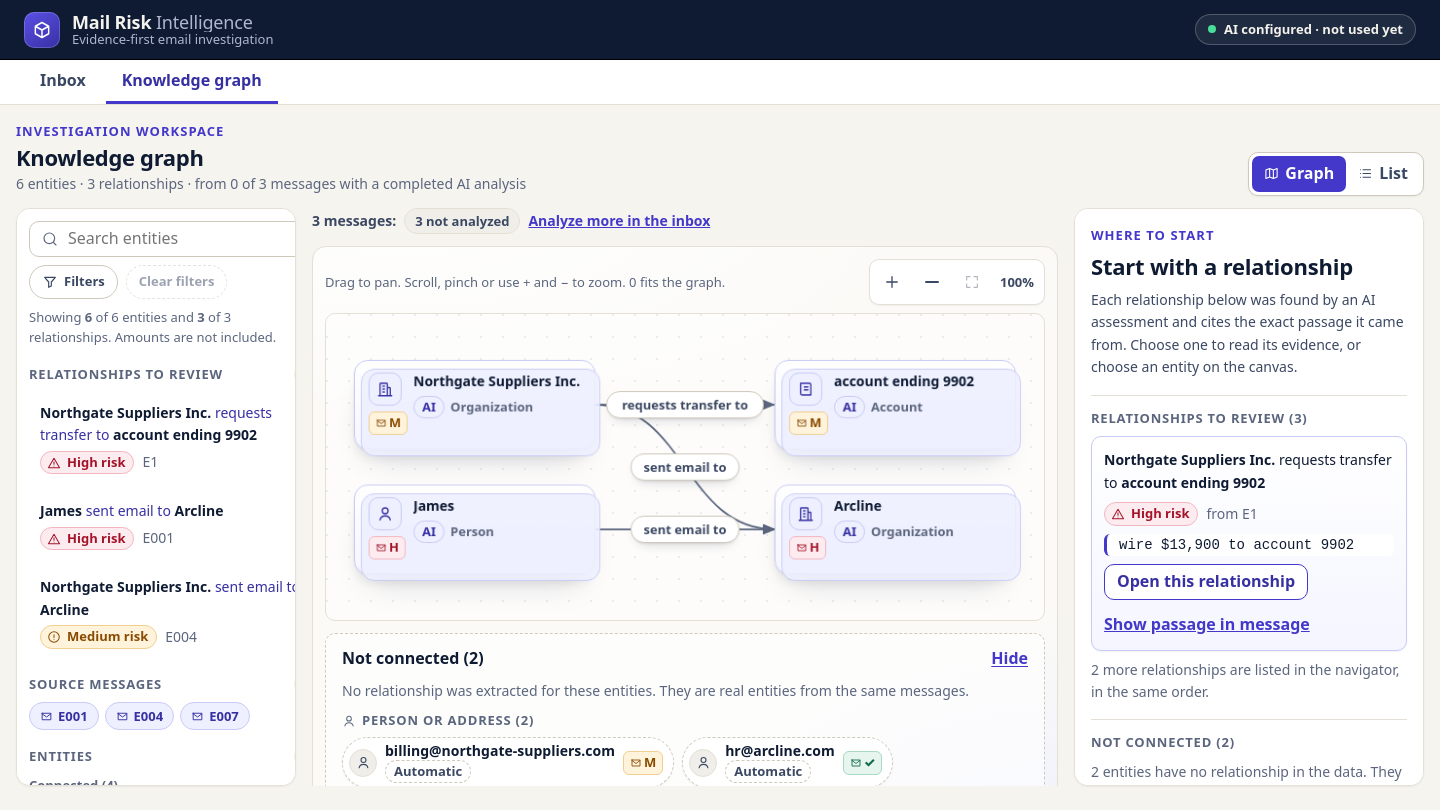
Test: include amounts uses the API parameter › is off by default (no include_amounts), then refetches with it and shows the amount
The image size is (1440, 810).
Expected: the text "6 entities · 3 relationships" is shown, [16,174,526,193]
Expected: the text "Amounts are not included" is shown, [111,328,276,346]
What coordinates should you click on to do the following:
click the button "Filters"
I would click on:
 (73, 282)
Its box is [29,265,118,299].
(page scrolled)
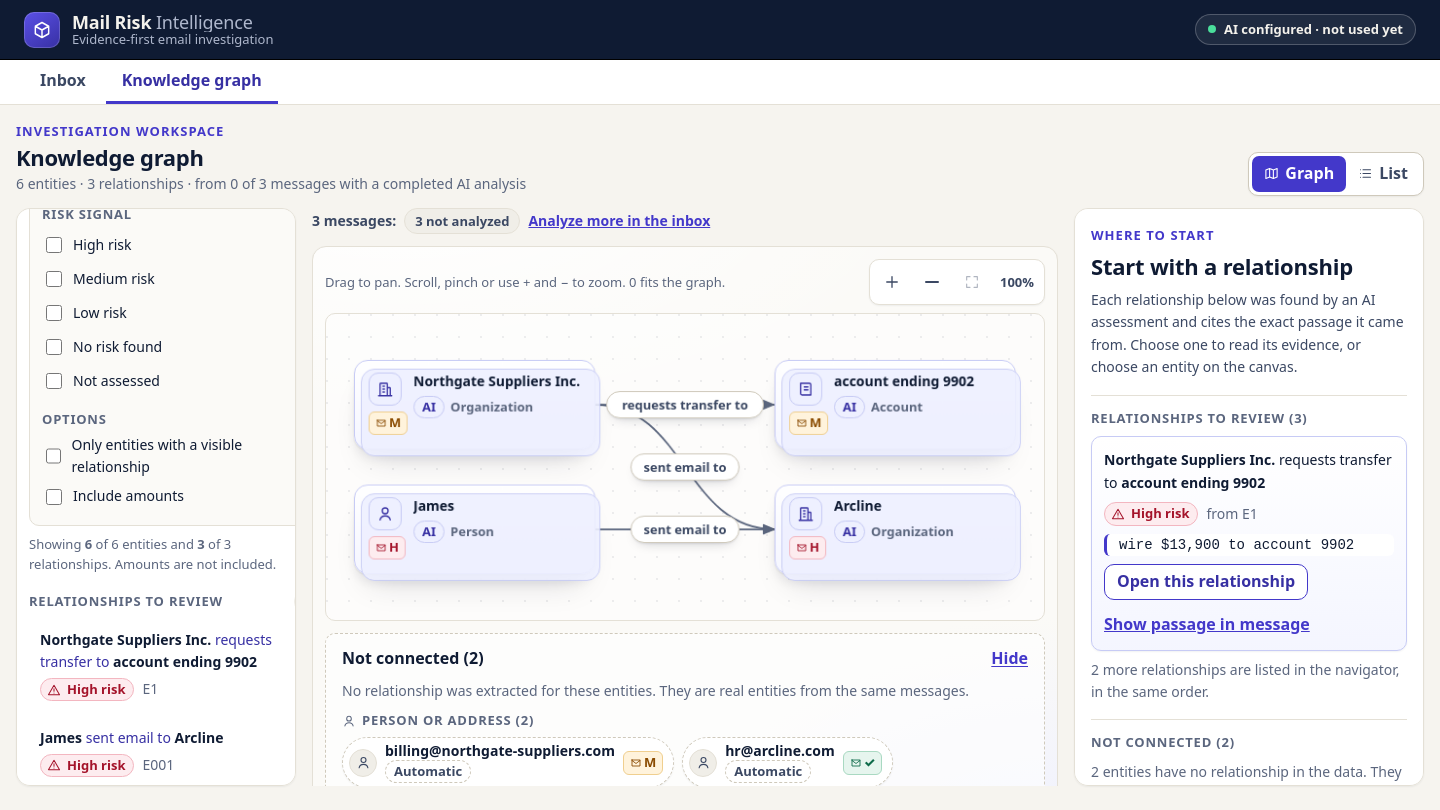
What coordinates should you click on to do the following:
click the checkbox labelled "Include amounts"
I would click on:
 (54, 497)
Its box is [46,489,62,505].
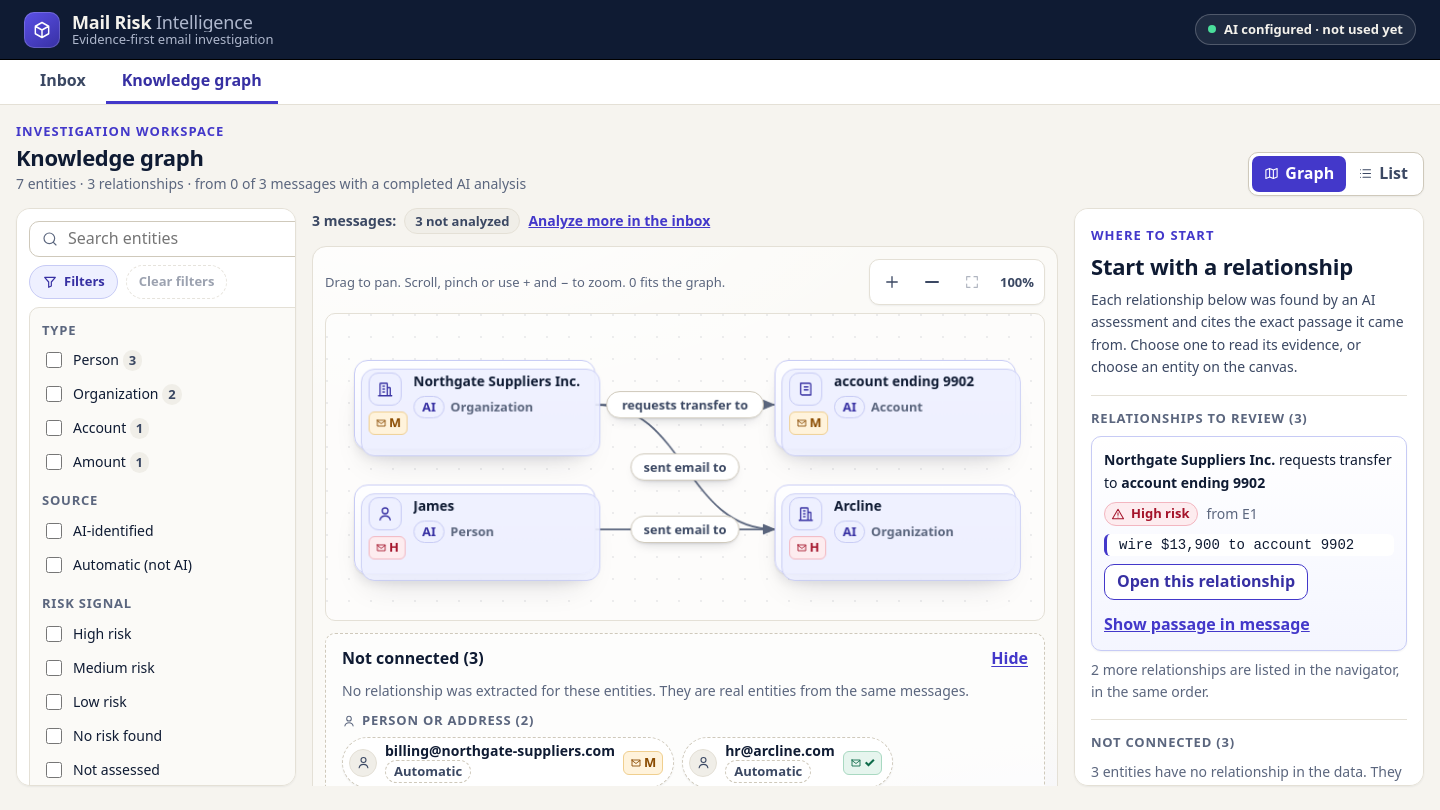
Expected: the text "Amounts are not included" is gone
